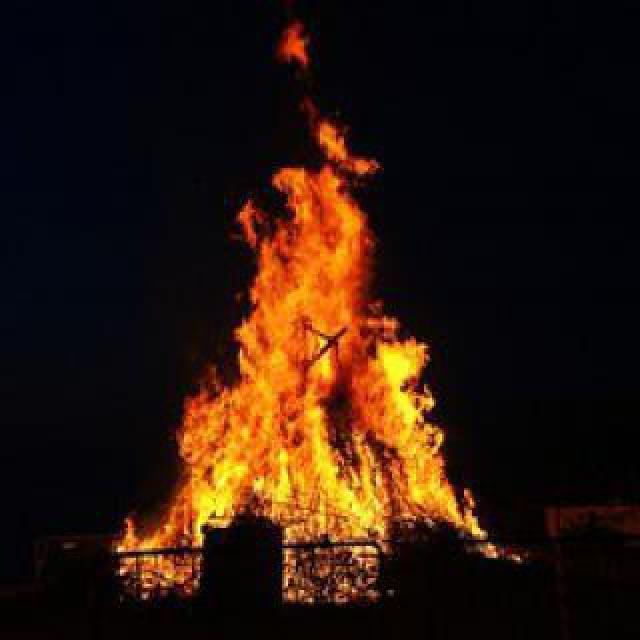Fire: (112, 10, 492, 552)
